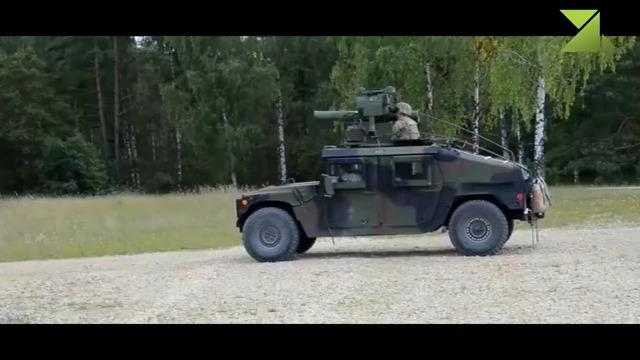MIL_HMMWV: (234, 146, 548, 258), (389, 98, 419, 140)
